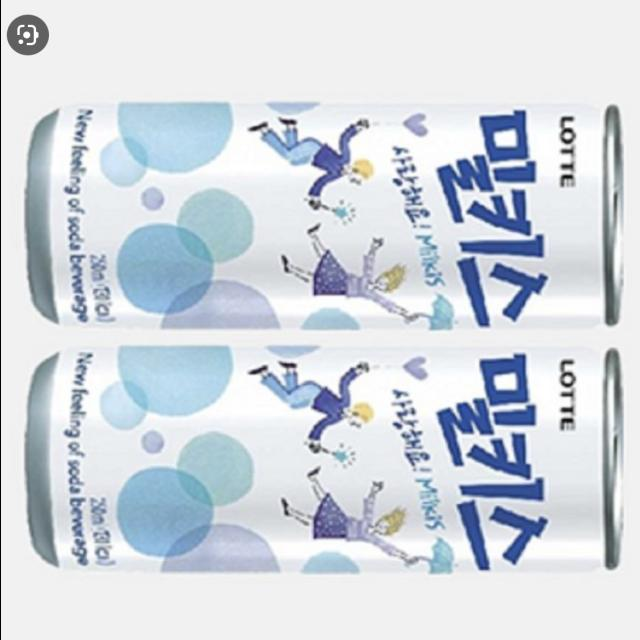can: (15, 328, 636, 598), (19, 78, 633, 341)
